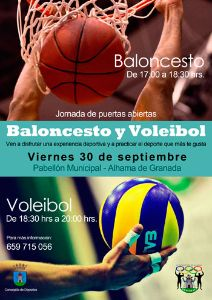baloncesto: (39, 18, 126, 104)
voleibol: (99, 178, 184, 255)
